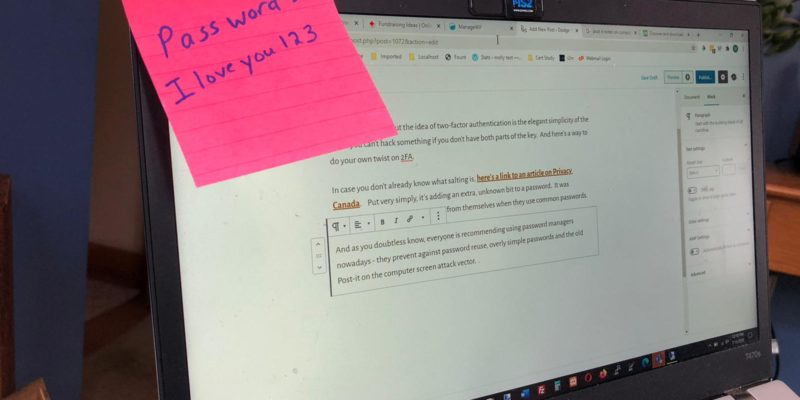Note: (120, 1, 397, 181)
